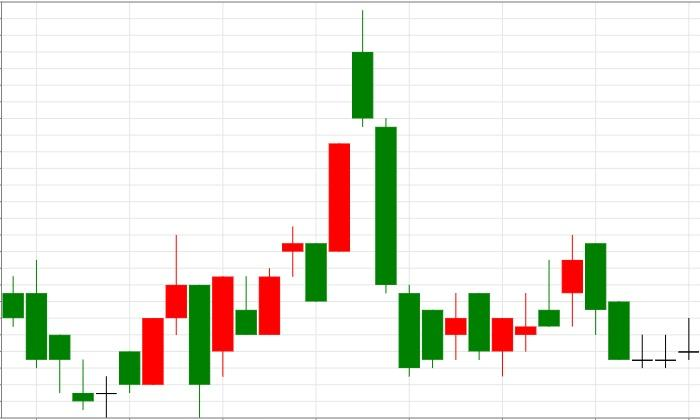three_black_crows_fall: (190, 9, 420, 417)
